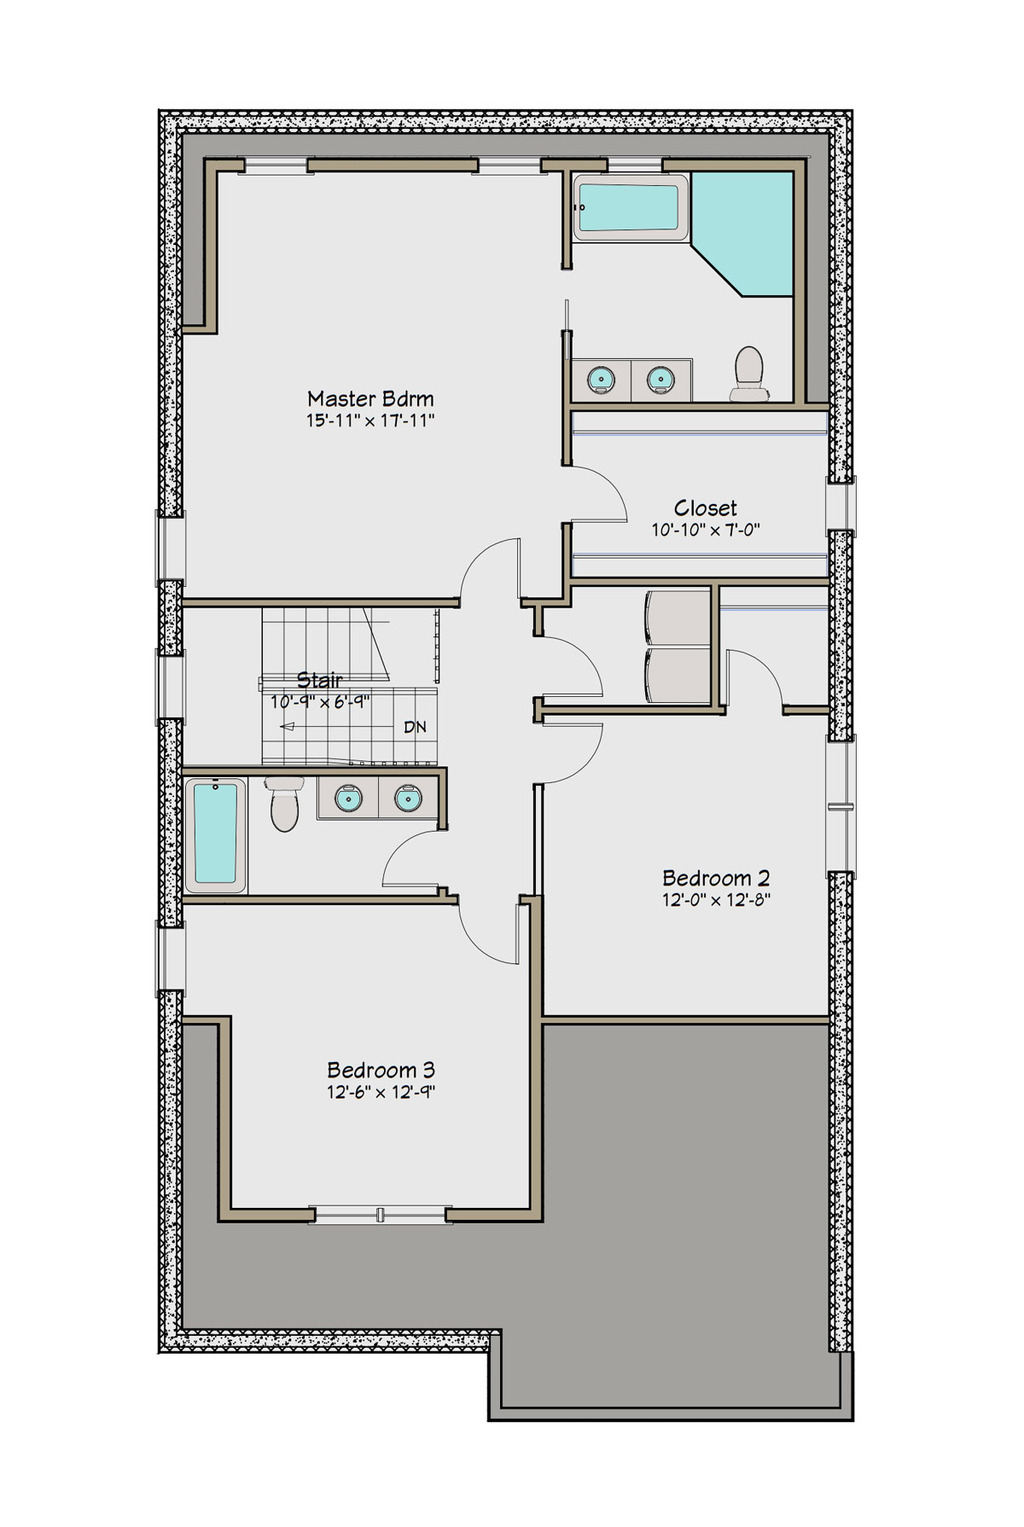door: (357, 820, 459, 898), (527, 699, 613, 790), (441, 533, 531, 598), (531, 635, 610, 705), (455, 900, 534, 969), (567, 459, 638, 528), (717, 650, 786, 717)
large_sink: (717, 336, 786, 411), (250, 772, 312, 840)
small_sink: (577, 347, 703, 407), (310, 772, 437, 824)
stairs: (234, 605, 459, 776)
tub: (181, 769, 250, 905), (574, 174, 699, 240)
window: (811, 719, 869, 881), (299, 1200, 455, 1221), (150, 514, 193, 586), (153, 655, 200, 719)
